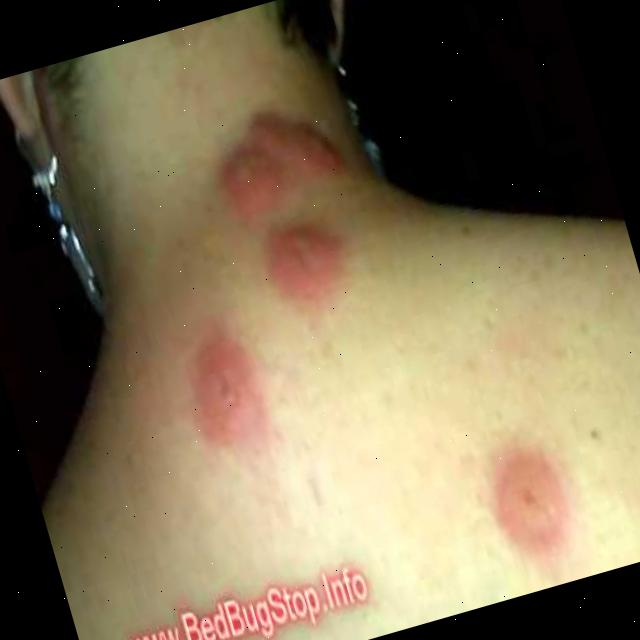kan emici bocekler: (195, 77, 361, 245), (162, 310, 280, 459), (472, 427, 585, 567), (251, 194, 366, 318)
